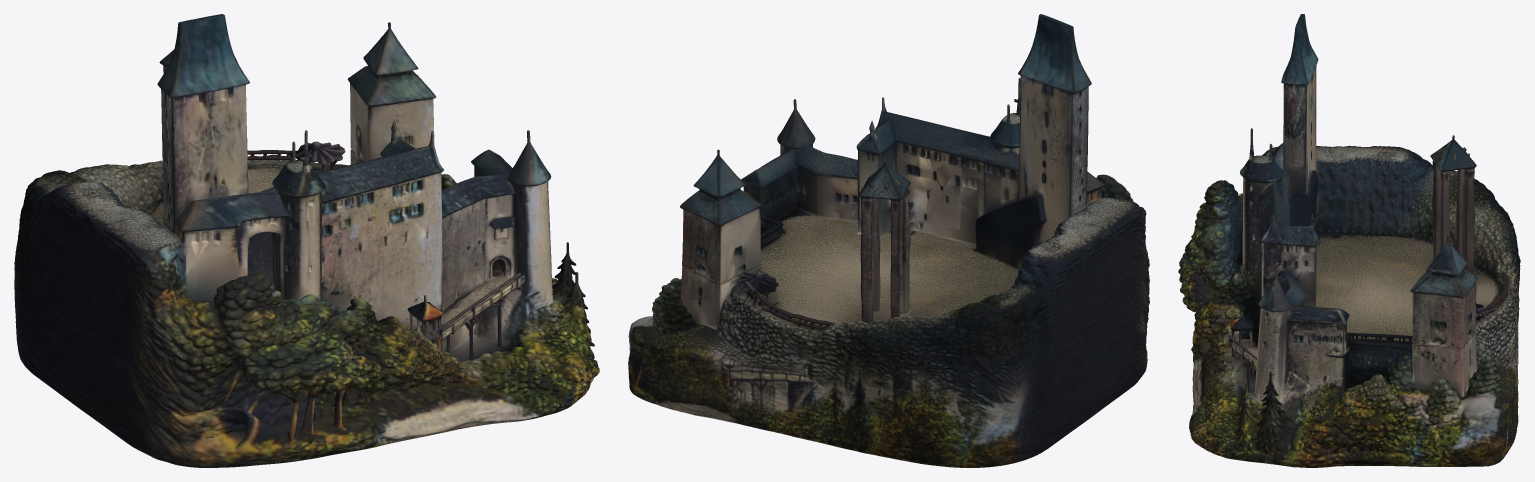
File: old_town_samobor.opt.glb
The picture shows the model from 3 angles, left to right: view 1: azimuth 30°, elevation 25°; view 2: azimuth 150°, elevation 25°; view 3: azimuth 270°, elevation 25°; orthographic projection. The views are drawn at different scales.
Parts seen in each view (by area): view 1: world; view 2: world; view 3: world.
Boxes of the visible parts, bbox=[...] form: world: bbox=[14, 14, 599, 467]; world: bbox=[628, 14, 1149, 467]; world: bbox=[1178, 14, 1520, 467].
Bounding box in the file's own units: 1 × 0.8682 × 0.8543.
Materials: 1 (1 with a texture image).
